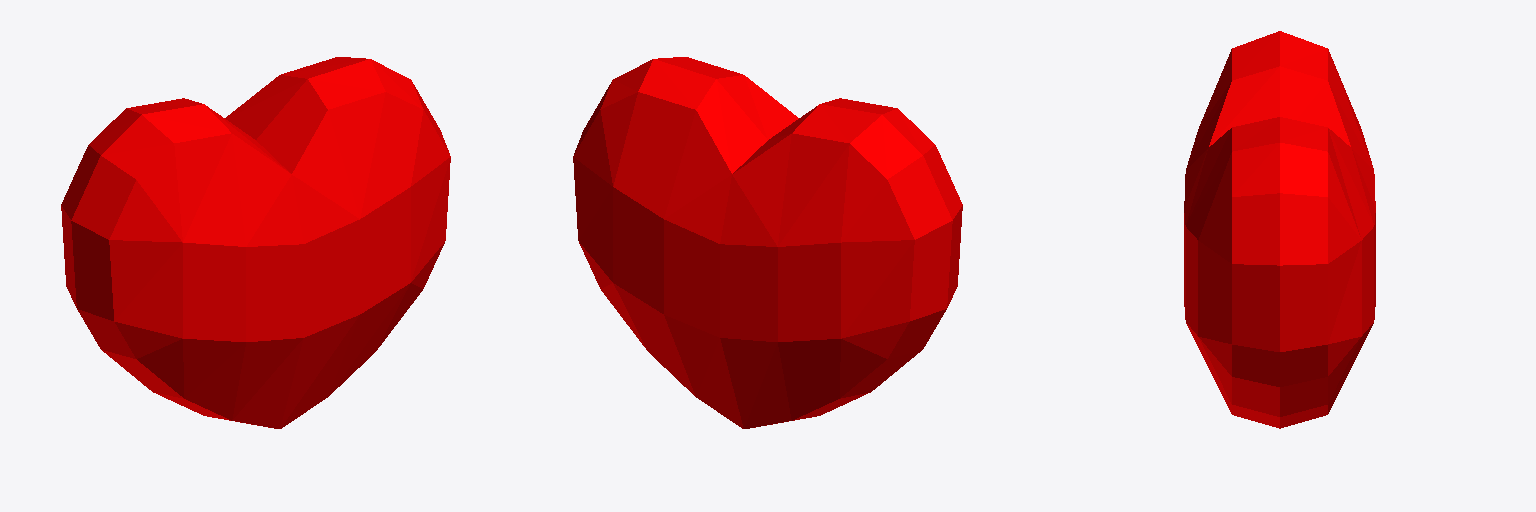
Rendered from heart.obj.
The picture shows the model from 3 angles: view 1: azimuth 30°, elevation 25°; view 2: azimuth 150°, elevation 25°; view 3: azimuth 270°, elevation 25°; orthographic projection.
Parts seen in each view (by area): view 1: Mesh; view 2: Mesh; view 3: Mesh.
Boxes of the visible parts, <box> form: Mesh: <box>61,57,450,428</box>; Mesh: <box>573,57,962,428</box>; Mesh: <box>1184,31,1375,428</box>.
Bounding box in the file's own units: 0.207 × 0.1813 × 0.093.